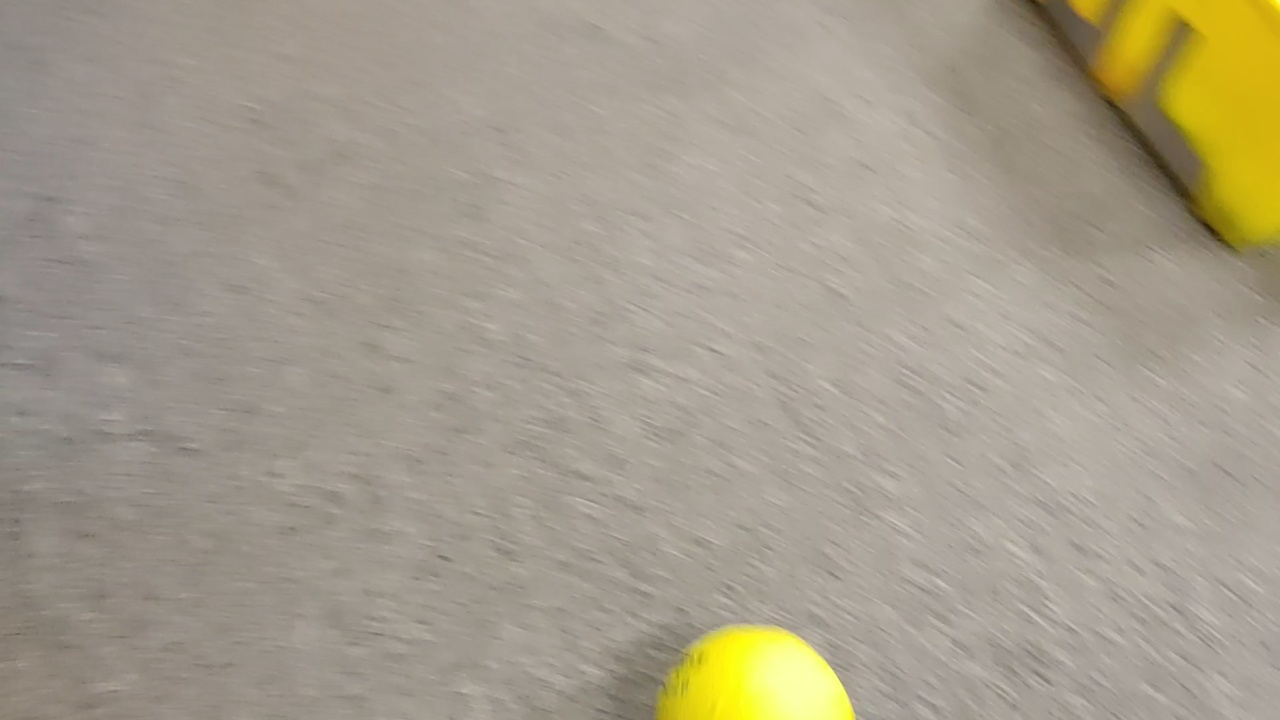Ball: (652, 624, 851, 720)
